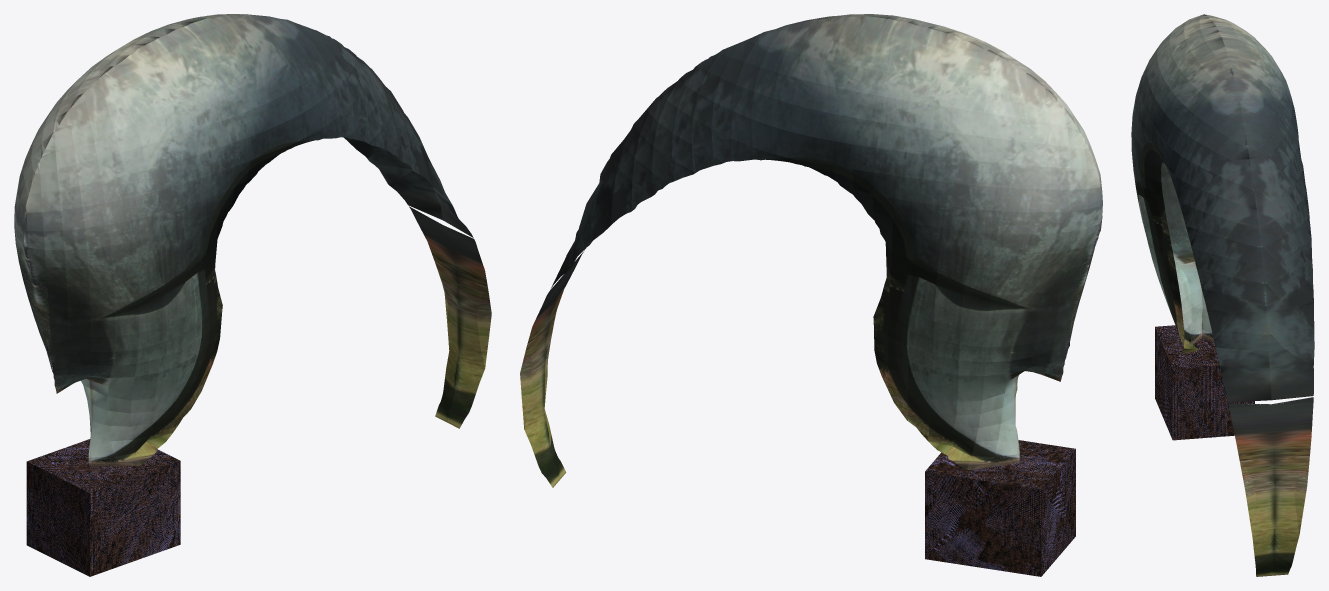
Rendered from Escultura El Pensador.fbx.
3 renders of one model, left to right at view 1: azimuth 30°, elevation 25°; view 2: azimuth 150°, elevation 25°; view 3: azimuth 270°, elevation 25°, orthographic. The views are drawn at different scales.
Visible parts, largest first — view 1: Group5, Group1, Group3; view 2: Group3, Group1, Group5; view 3: Group5, Group3, Group1.
Part boxes in pixels (x1,y1,x2,y2): Group5: (24, 14, 491, 466); Group1: (26, 439, 180, 576); Group3: (14, 14, 459, 456); Group3: (520, 16, 1102, 487); Group1: (925, 440, 1075, 576); Group5: (544, 14, 1102, 479); Group5: (1131, 14, 1274, 576); Group3: (1202, 14, 1314, 575); Group1: (1155, 325, 1254, 440).
Bounding box in the file's own units: 6.84 × 6.4 × 2.54.
